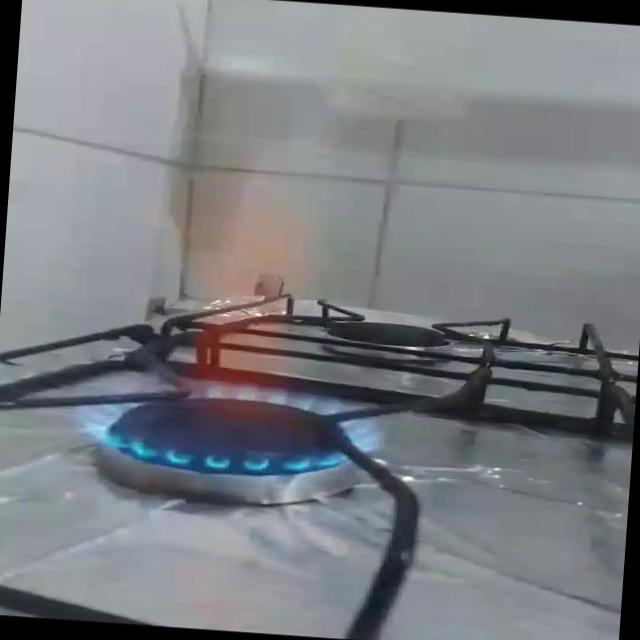Fire: (68, 362, 390, 482)
